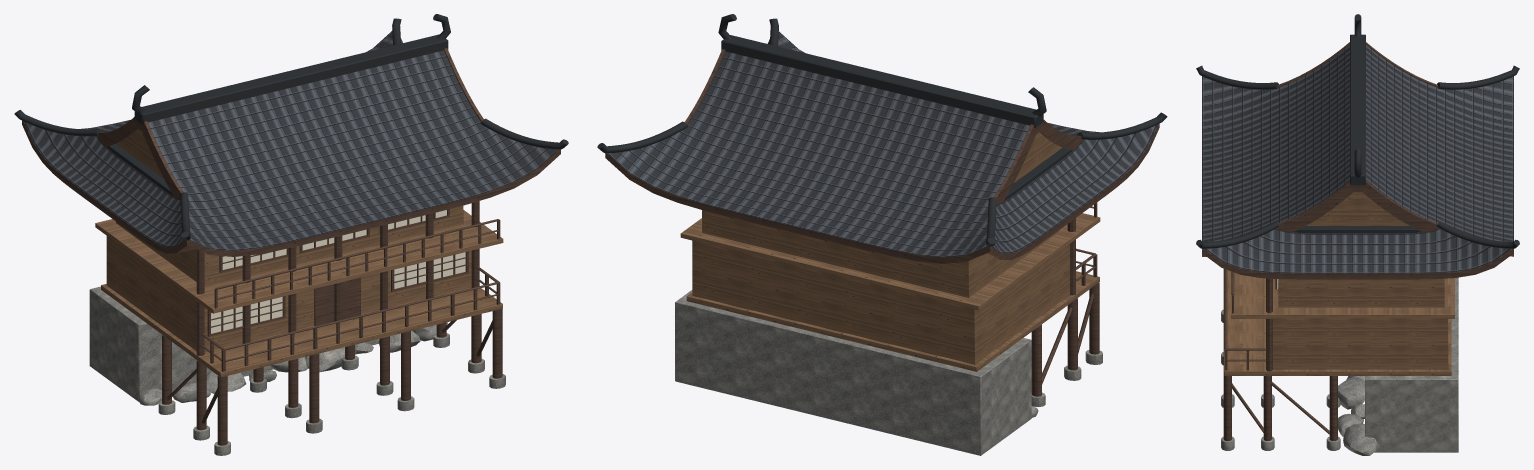
Rendered from waterside-stilt-house.glb.
3 views of the same model, side by side, from view 1: azimuth 30°, elevation 25°; view 2: azimuth 150°, elevation 25°; view 3: azimuth 270°, elevation 25° (orthographic). The views are drawn at different scales.
Parts seen in each view (by area): view 1: waterside-stilt-house-Stilt_House; view 2: waterside-stilt-house-Stilt_House; view 3: waterside-stilt-house-Stilt_House.
Part boxes in pixels (x1=…): waterside-stilt-house-Stilt_House: x1=14, y1=14, x2=568, y2=455; waterside-stilt-house-Stilt_House: x1=597, y1=14, x2=1167, y2=455; waterside-stilt-house-Stilt_House: x1=1196, y1=14, x2=1519, y2=455.
Bounding box in the file's own units: 4.76 × 3.75 × 3.64.
Materials: 5 (4 with a texture image).
